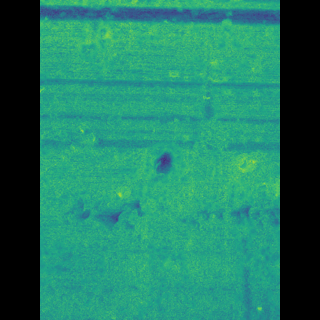Loch: (68, 178, 249, 319), (204, 148, 251, 319), (187, 6, 233, 151), (98, 0, 133, 79), (142, 135, 179, 202)
